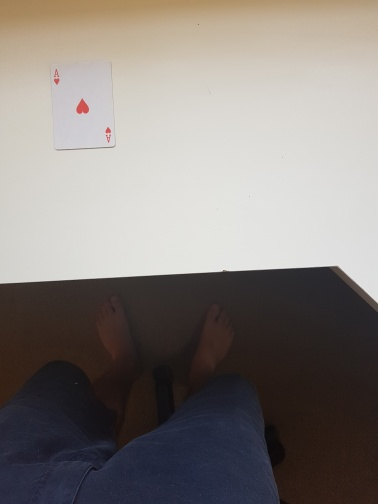ace: (49, 59, 117, 152)
